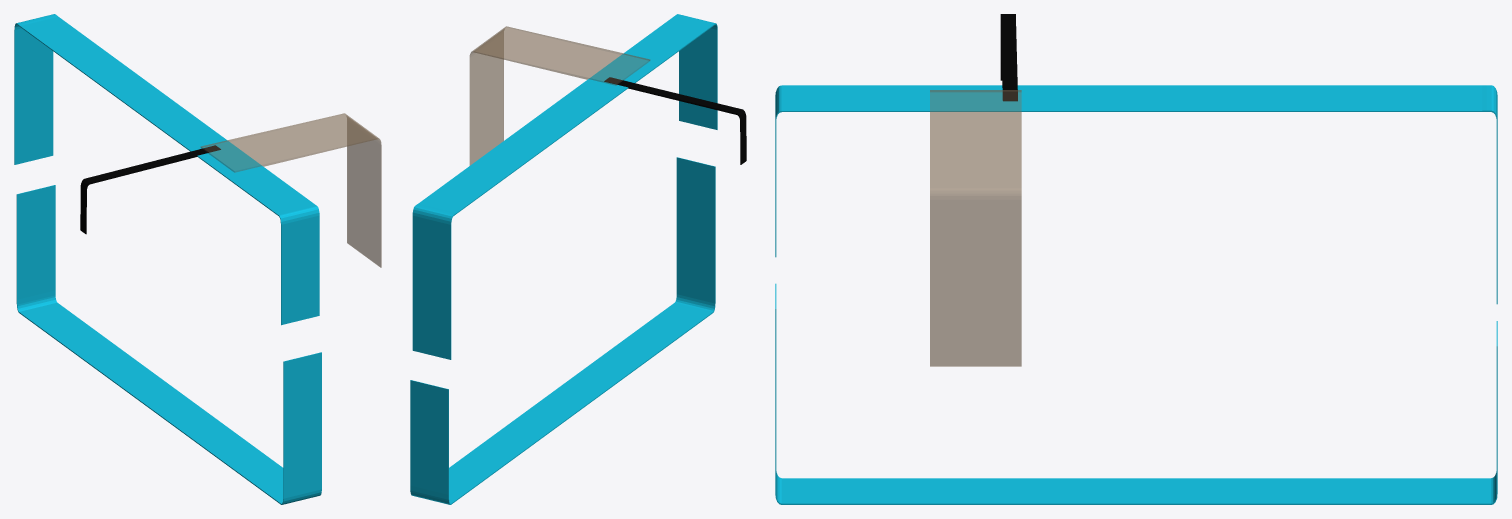
File: tape_close_3.fbx
The picture shows the model from 3 angles, left to right: view 1: azimuth 30°, elevation 25°; view 2: azimuth 150°, elevation 25°; view 3: azimuth 270°, elevation 25°; orthographic projection. The views are drawn at different scales.
Parts seen in each view (by area): view 1: tape_0.008, 평면.032, 평면.033; view 2: tape_0.008, 평면.032, 평면.033; view 3: tape_0.008, 평면.032, 평면.033.
Part boxes in pixels (bbox=[...]): tape_0.008: bbox=[14, 14, 321, 504]; 평면.032: bbox=[200, 113, 381, 267]; 평면.033: bbox=[80, 145, 220, 234]; tape_0.008: bbox=[410, 14, 717, 504]; 평면.032: bbox=[469, 26, 650, 165]; 평면.033: bbox=[604, 77, 746, 164]; tape_0.008: bbox=[775, 85, 1497, 504]; 평면.032: bbox=[930, 90, 1021, 366]; 평면.033: bbox=[1000, 14, 1017, 101].
Size of the model in its own units: 146 by 151 by 251.
